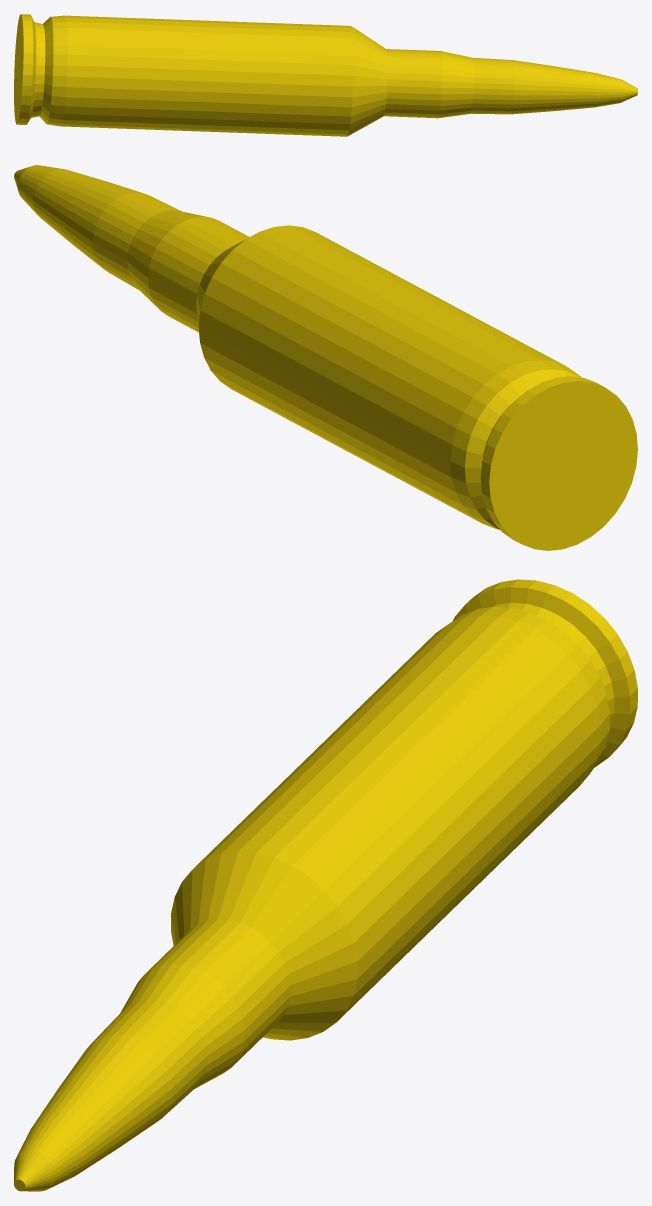
The model's file is bala 3.2.fbx.
3 renders of one model, top to bottom at view 1: azimuth 30°, elevation 25°; view 2: azimuth 150°, elevation 25°; view 3: azimuth 270°, elevation 25°, orthographic. The views are drawn at different scales.
Visible parts, largest first — view 1: Cylinder.001; view 2: Cylinder.001; view 3: Cylinder.001.
Part boxes in pixels (x1,y1,x2,y2): Cylinder.001: [14, 14, 637, 136]; Cylinder.001: [14, 165, 637, 550]; Cylinder.001: [14, 579, 637, 1191].
Bounding box in the file's own units: 123 × 28 × 69.85.
